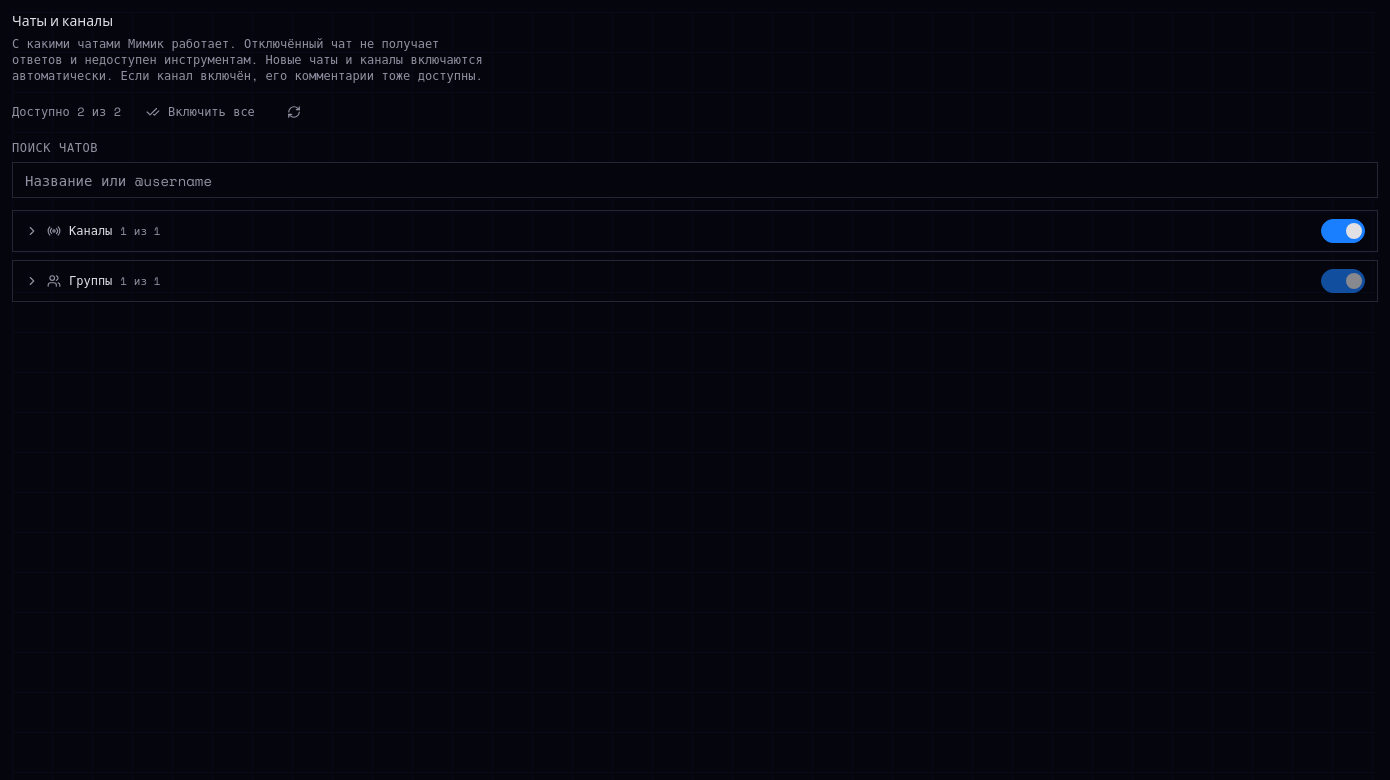
Test case: ChatsSettings › группа обсуждения включённого канала заблокирована с пояснением
Click the button with test id "chat-group-group": x=91, y=280 [25,273,1309,289]
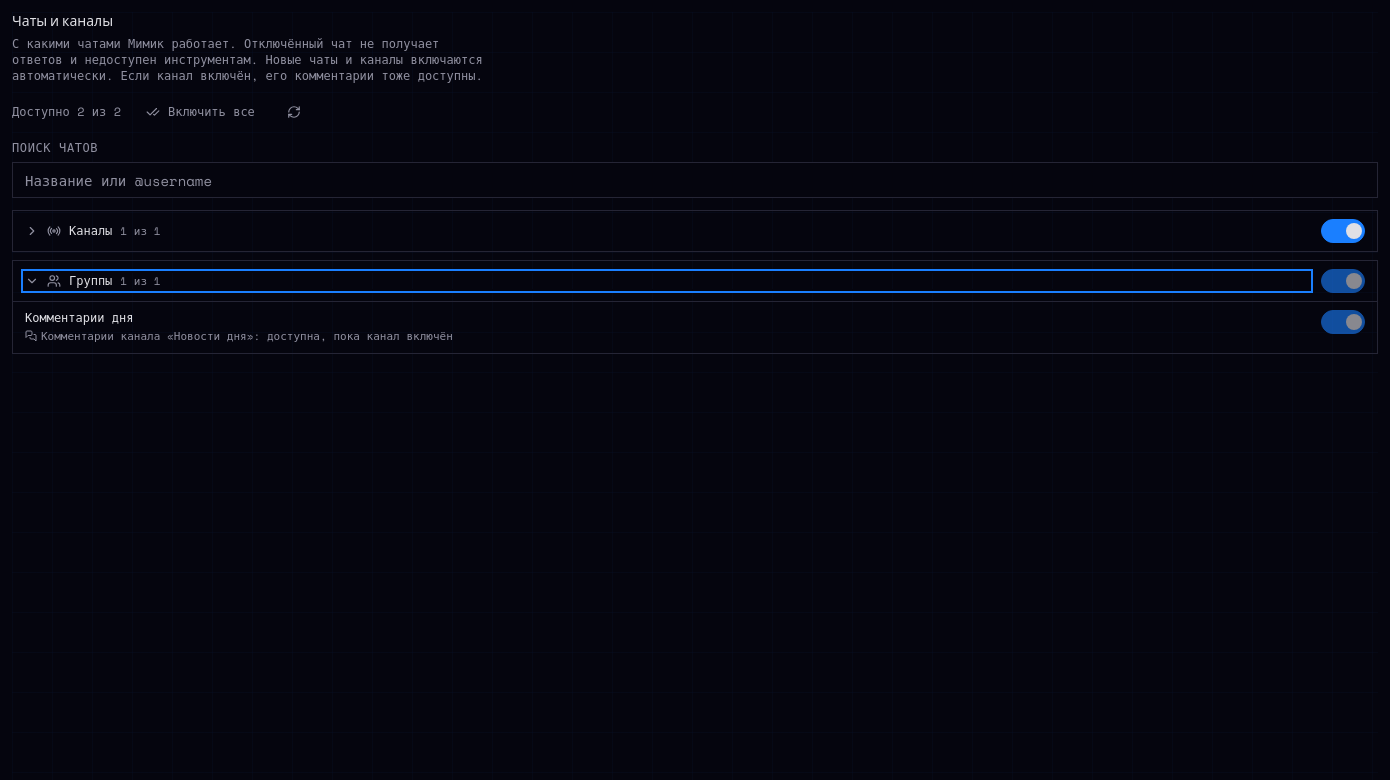
Now the switch named "Комментарии дня" is disabled, box [1321,310,1365,334]
Now the text "Комментарии канала «Новости дня»: доступна, пока канал включён" is shown, box [25,328,453,344]
